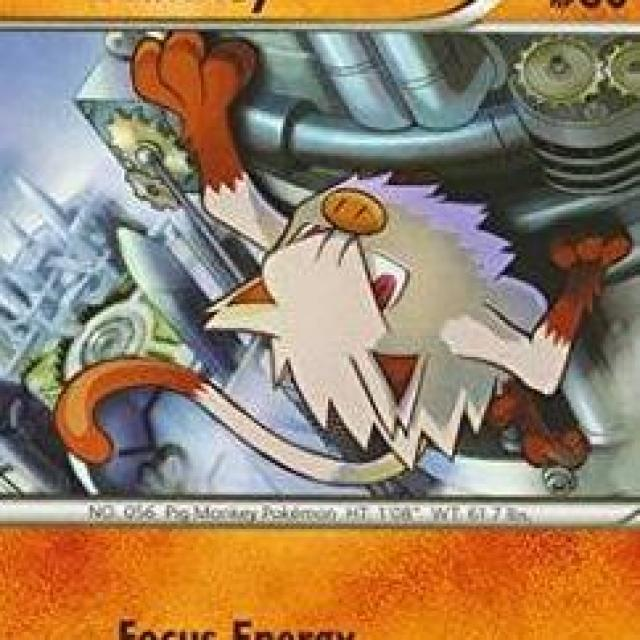Mankey: (181, 155, 628, 465)
